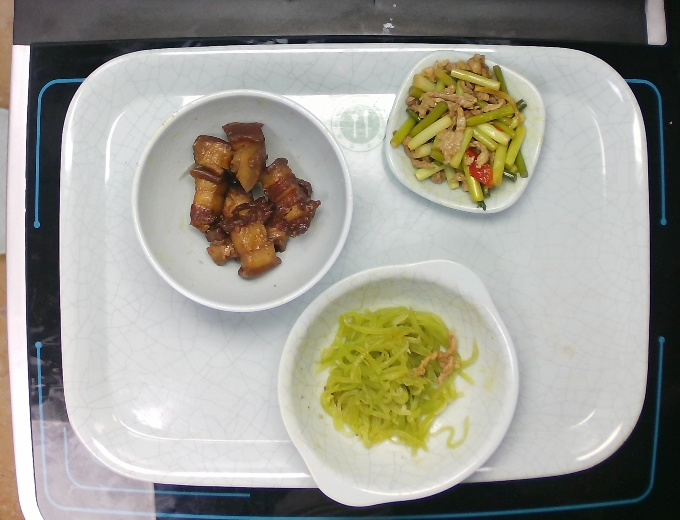JYsf-Fan_Wan: (130, 79, 360, 320)
JYsf-Shuang_Er_Wan: (272, 255, 528, 513)
JYsf-Si_Fang_Die: (365, 42, 554, 218)
